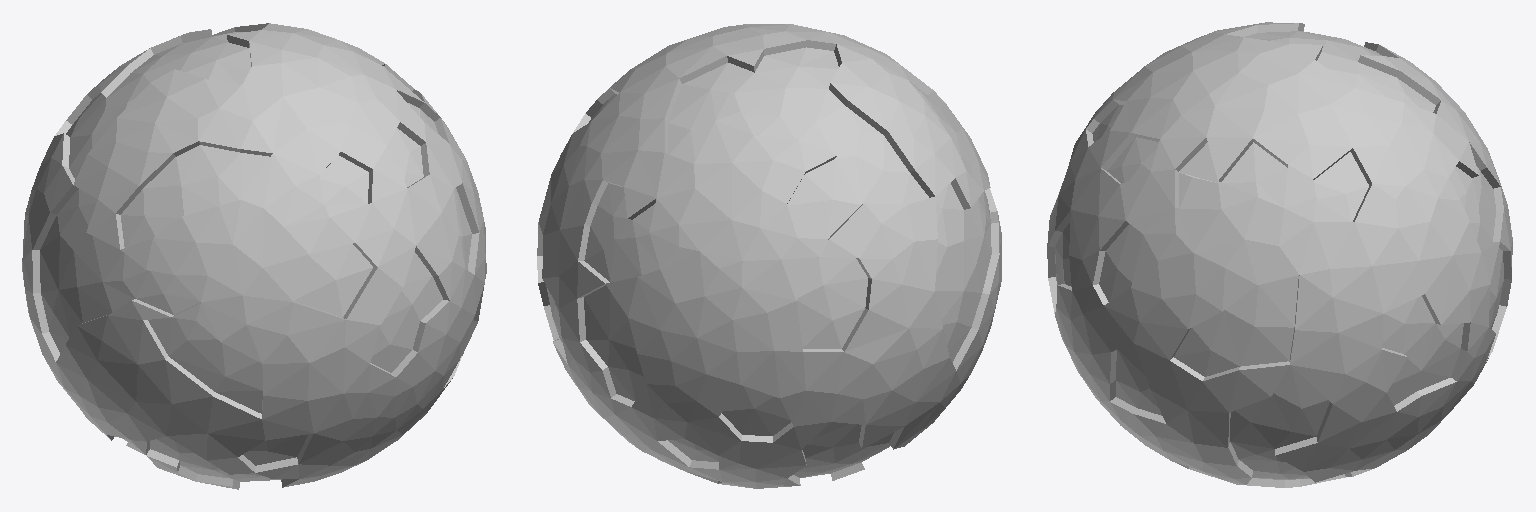
File: planetG.obj
3 renders of one model, left to right at view 1: azimuth 30°, elevation 25°; view 2: azimuth 150°, elevation 25°; view 3: azimuth 270°, elevation 25°, orthographic.
Visible parts, largest first — view 1: Planet_8_Cube.007; view 2: Planet_8_Cube.007; view 3: Planet_8_Cube.007.
Part boxes in pixels (x1,y1,x2,y2): Planet_8_Cube.007: (22,23,486,489); Planet_8_Cube.007: (537,24,1001,488); Planet_8_Cube.007: (1047,22,1512,487).
Size of the model in its own units: 2.14 by 2.15 by 2.15.